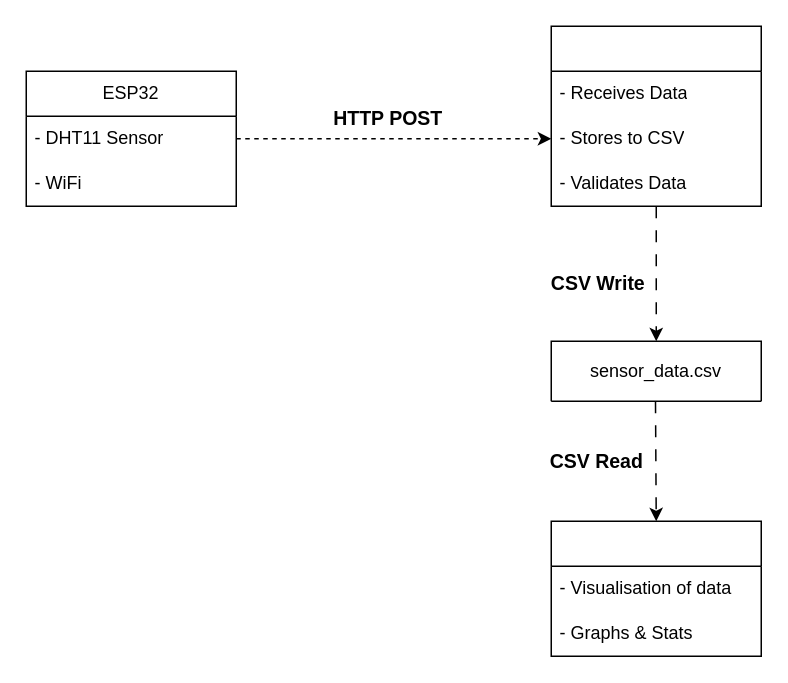
Some shapes in this 788 by 683 pixel diagram are drawn without their labels. The box of each missing label's shape, as (x1, y1, x2, y2) in pixels:
Flask Server: (550, 25, 761, 206)
StreamLit App: (550, 520, 761, 656)
